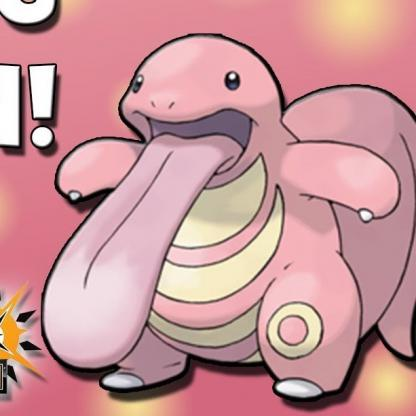Lickitung: (37, 34, 416, 406)
